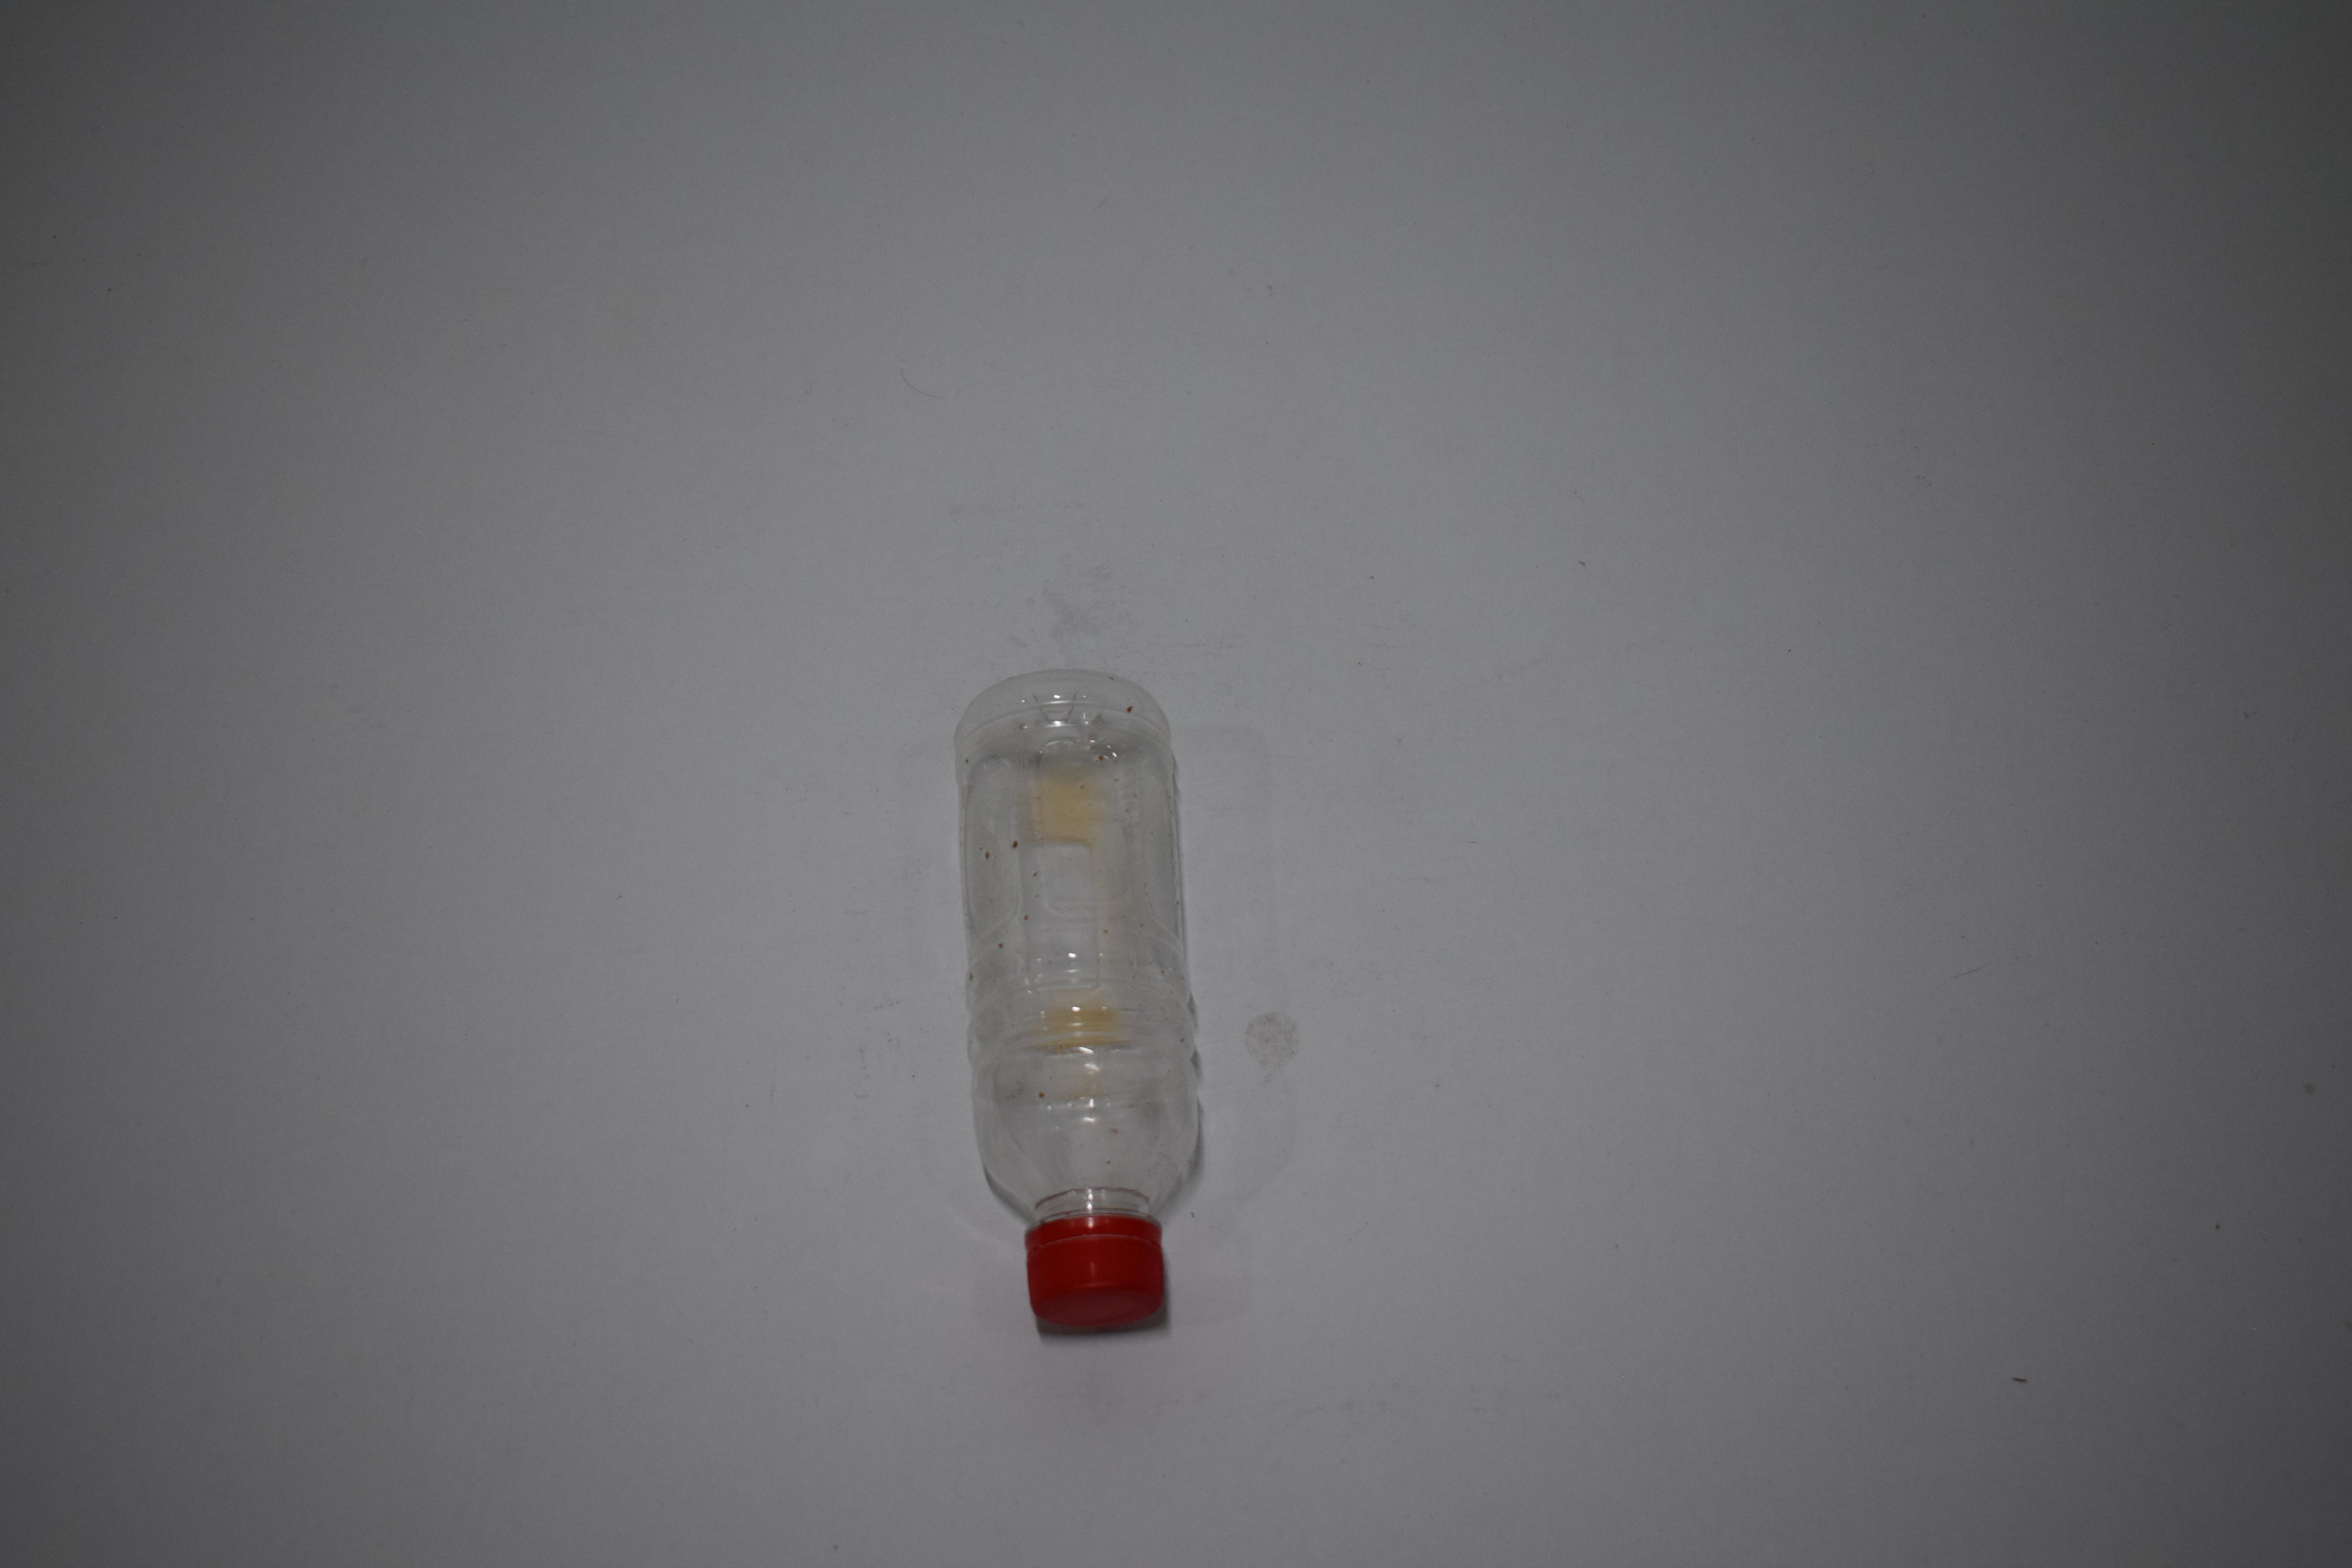bottle: (831, 658, 1090, 1344)
